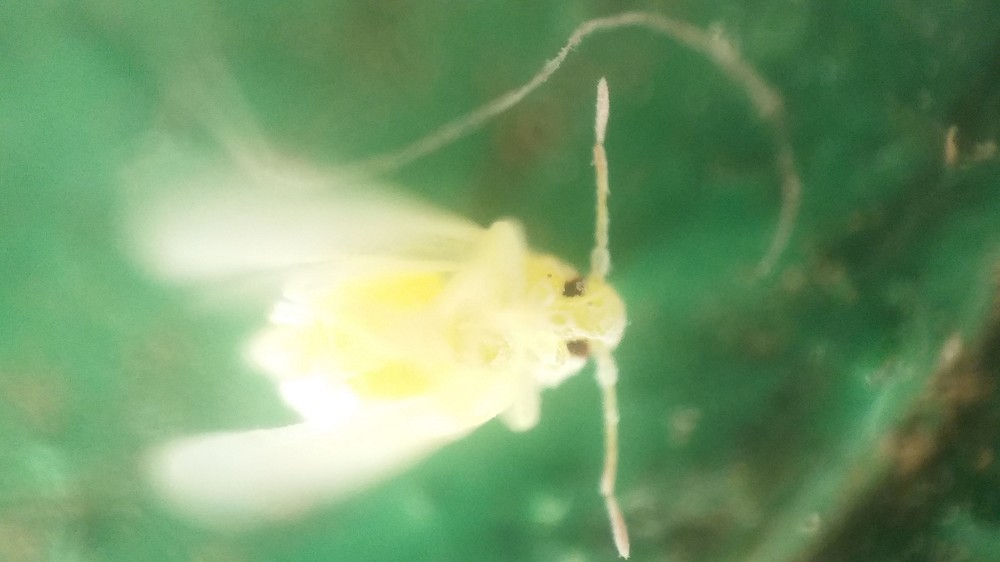Mosca Blanca: (115, 78, 649, 553)
